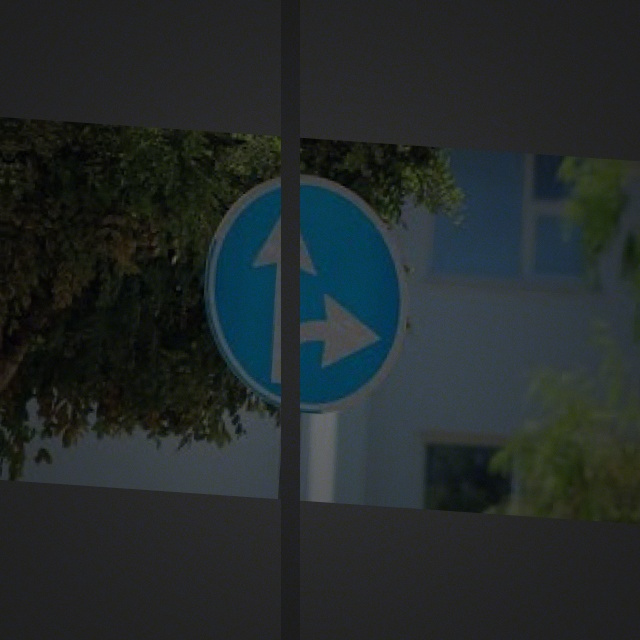Compulsory_Ahead_or_Turn_Right: (202, 169, 421, 420)
